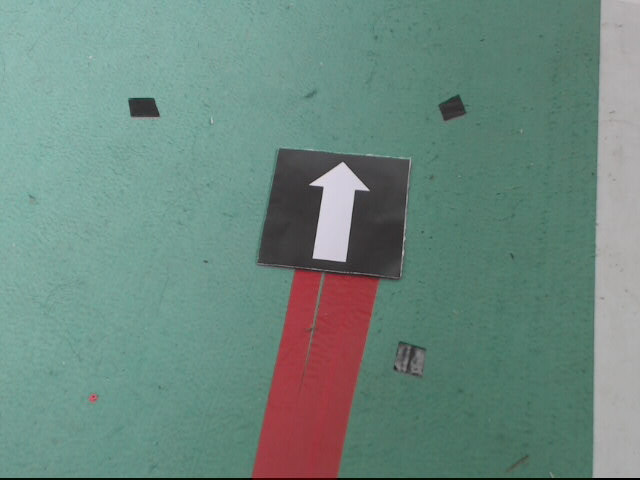straight: (260, 148, 409, 276)
